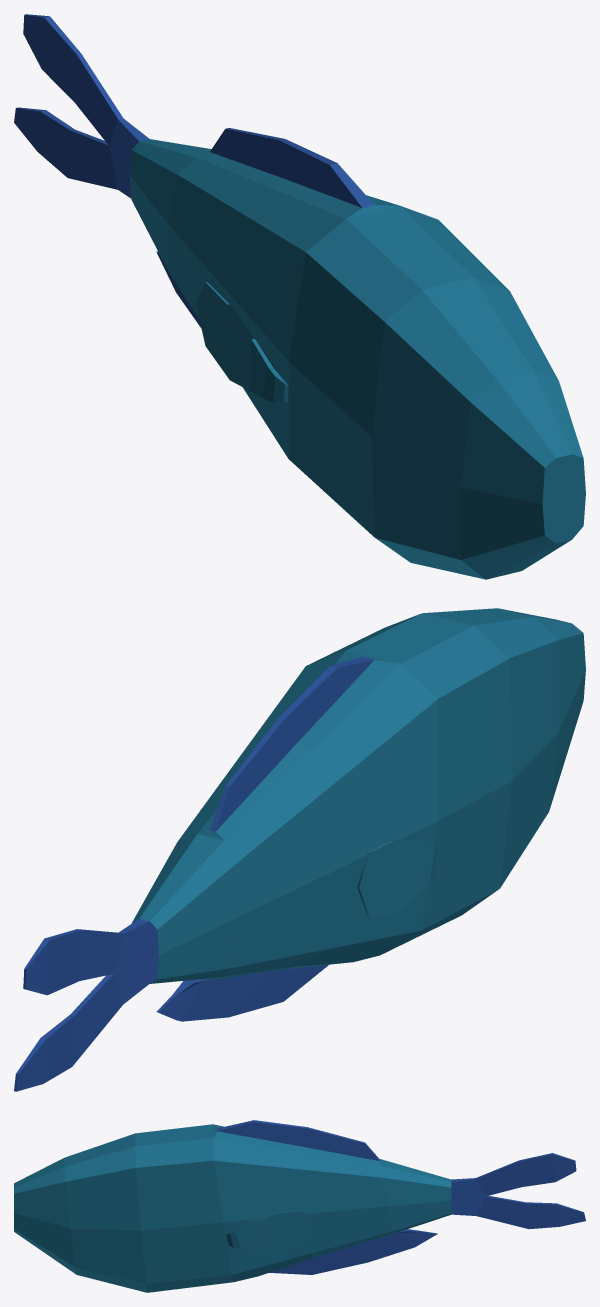
Rendered from fish_lp_7.fbx.
3 views of the same model, one above another, from view 1: azimuth 30°, elevation 25°; view 2: azimuth 150°, elevation 25°; view 3: azimuth 270°, elevation 25° (orthographic). The views are drawn at different scales.
Visible parts, largest first — view 1: Fish; view 2: Fish; view 3: Fish.
Part boxes in pixels (box(x1,y1,x2,y2)): Fish: box(14, 14, 585, 579); Fish: box(14, 608, 585, 1091); Fish: box(14, 1120, 585, 1292).
Size of the model in its own units: 47.04 by 85.07 by 267.
